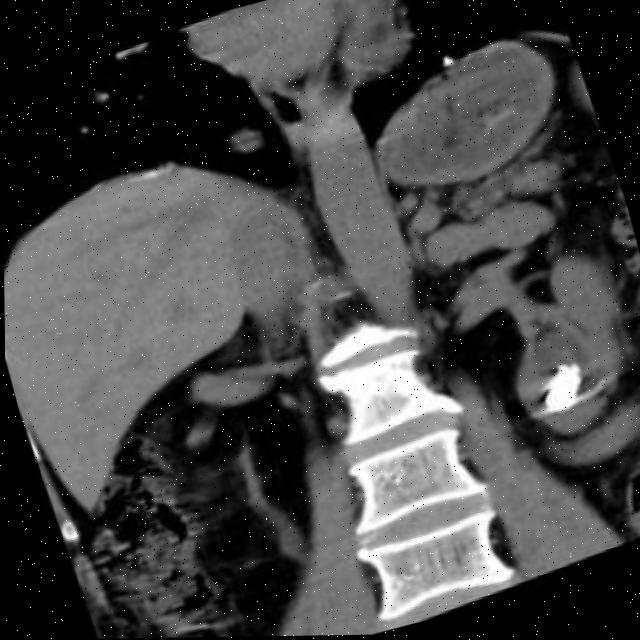Tas_Var: (528, 351, 598, 423)
